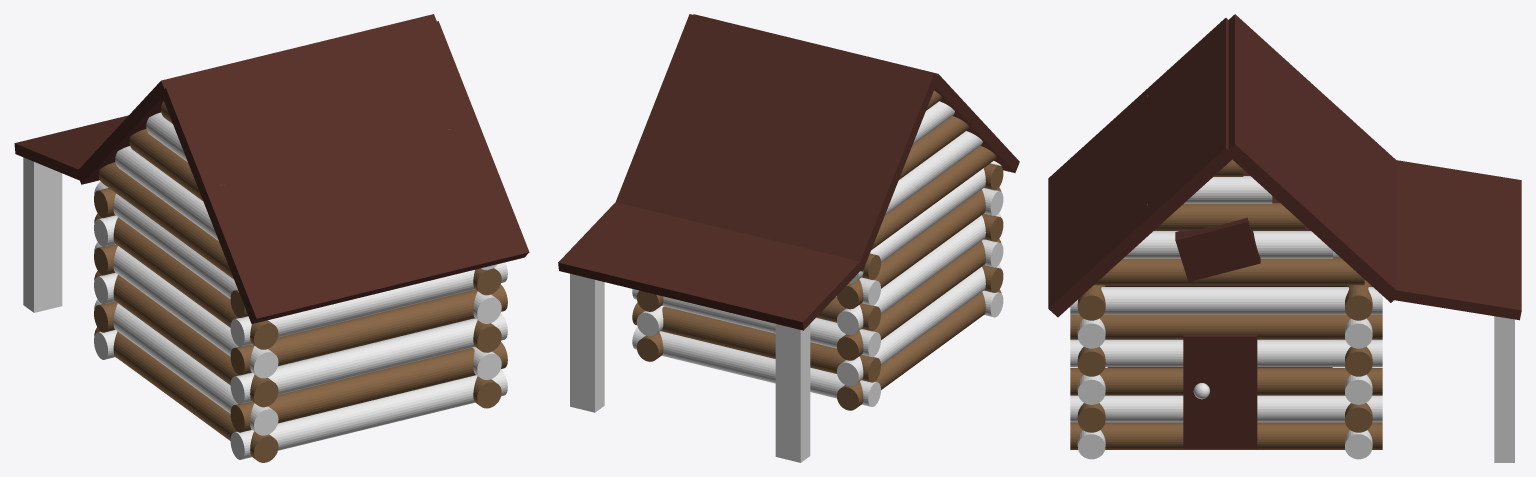
The model's file is ShopCabin.fbx.
3 views of the same model, side by side, from view 1: azimuth 30°, elevation 25°; view 2: azimuth 150°, elevation 25°; view 3: azimuth 270°, elevation 25° (orthographic). The views are drawn at different scales.
Parts seen in each view (by area): view 1: Cube.005; view 2: Cube.005; view 3: Cube.005.
Boxes of the visible parts, x1,y1,x2,y2 form: Cube.005: (14, 14, 529, 462); Cube.005: (558, 14, 1019, 462); Cube.005: (1048, 14, 1521, 462).
Size of the model in its own units: 2229 by 2573 by 3415.
